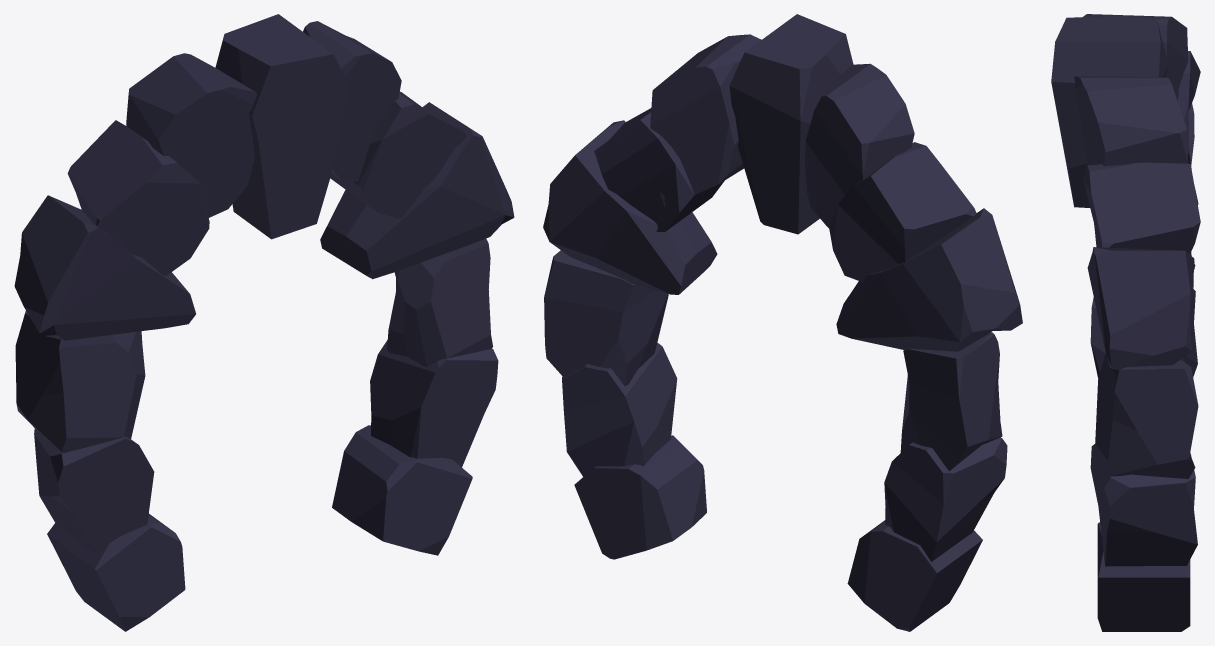
File: portal.fbx
The picture shows the model from 3 angles, left to right: view 1: azimuth 30°, elevation 25°; view 2: azimuth 150°, elevation 25°; view 3: azimuth 270°, elevation 25°; orthographic projection. The views are drawn at different scales.
Visible parts, largest first — view 1: Cube.052; view 2: Cube.052; view 3: Cube.052.
Part boxes in pixels (bbox=[...]): Cube.052: bbox=[14, 14, 514, 631]; Cube.052: bbox=[543, 14, 1022, 631]; Cube.052: bbox=[1051, 14, 1200, 631].
Bounding box in the file's own units: 578 × 640 × 164.
